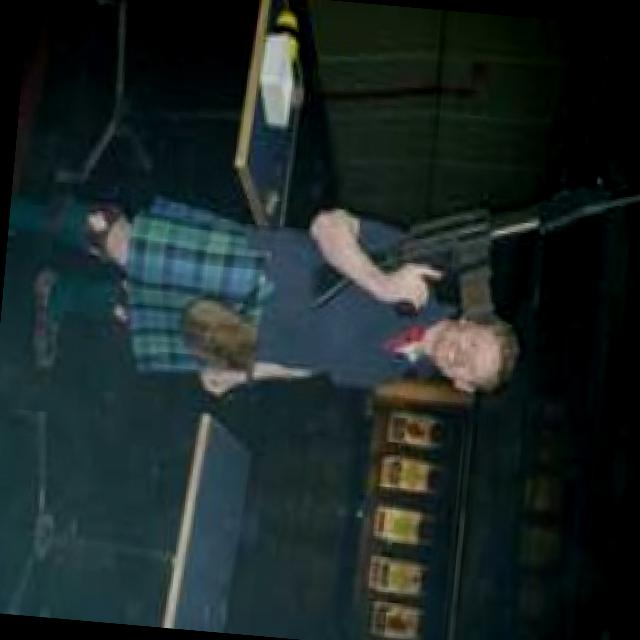long weapon: (292, 139, 639, 330)
